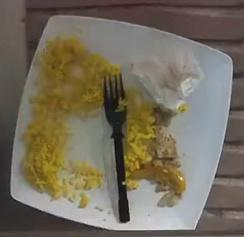rice: (24, 37, 119, 200), (124, 87, 155, 173), (126, 160, 186, 198)
